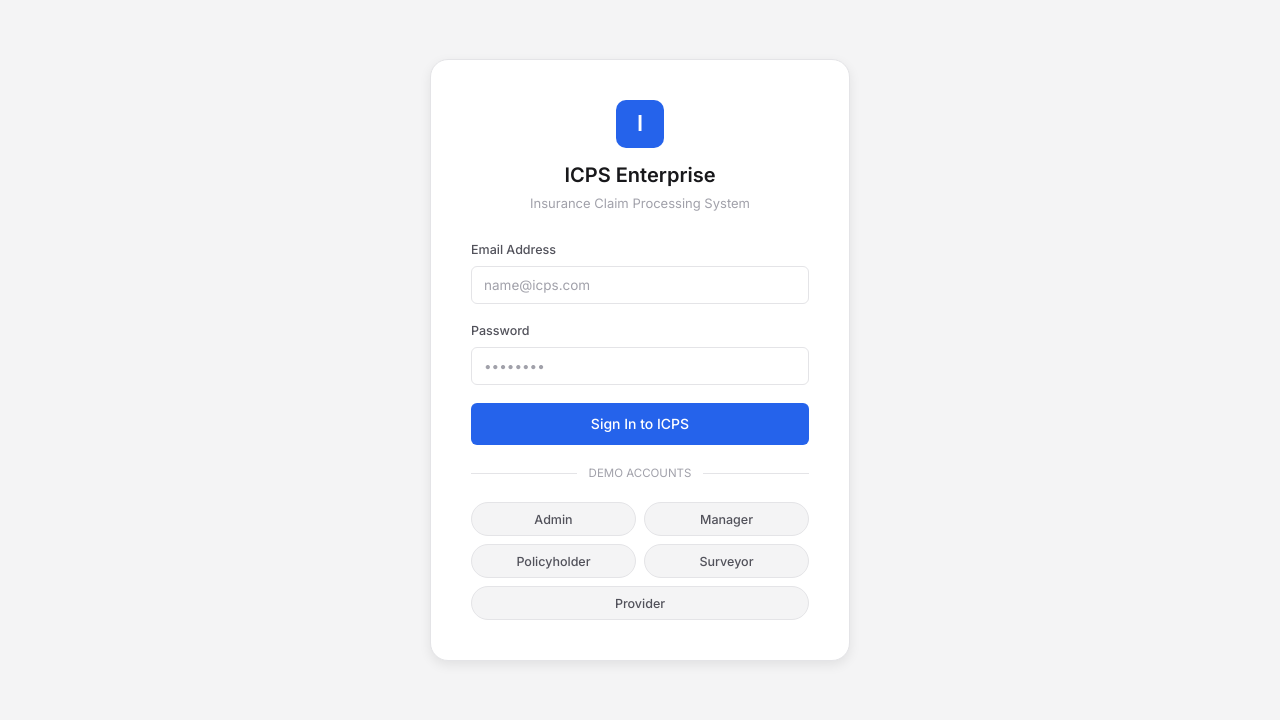
Scenario: ICPS Enterprise RBAC Flows › Role: policyholder › logs in as policyholder via demo button
Click the button "Policyholder" at coordinates (554, 561), box [471, 544, 636, 578]
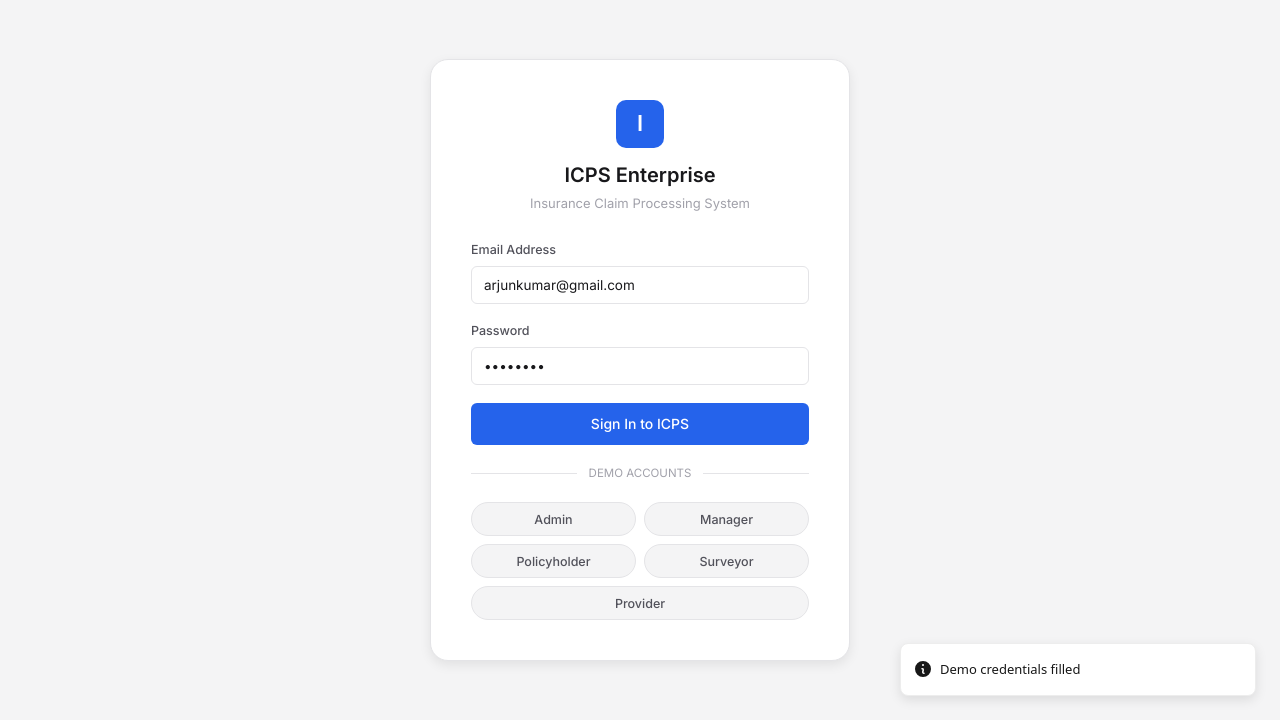
Check: the password field labelled "Password" holds "password", box [471, 347, 809, 385]
Click the button "Sign In to ICPS" at coordinates (640, 424), box [471, 403, 809, 445]
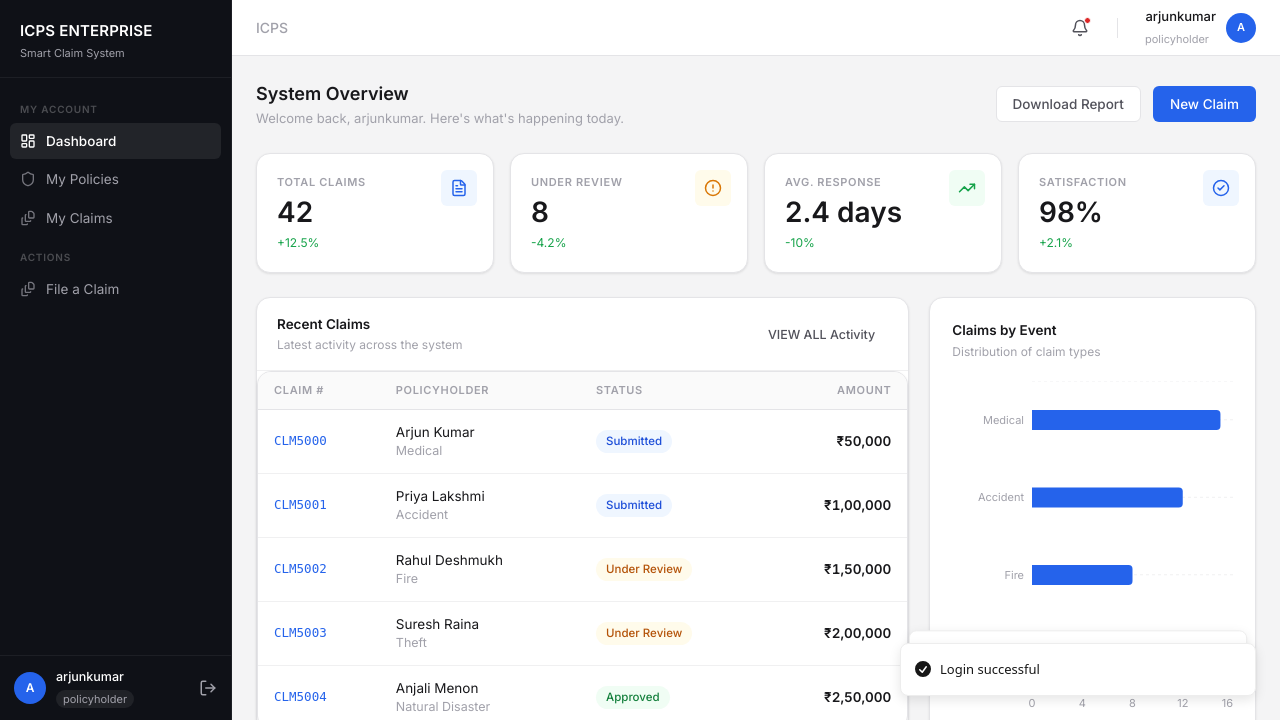
Check: the heading "System Overview" is shown, box [256, 83, 409, 104]
